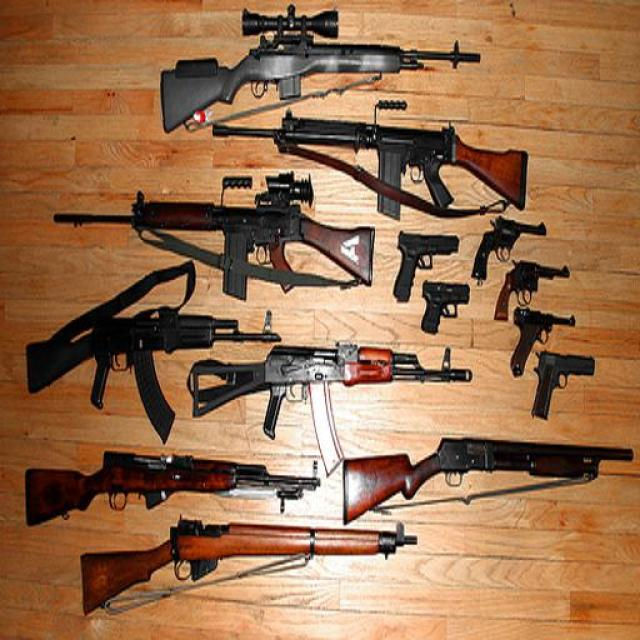pistol: (470, 212, 547, 281), (392, 230, 460, 304), (492, 260, 571, 320), (527, 349, 596, 415), (507, 304, 567, 375), (419, 280, 471, 332)
